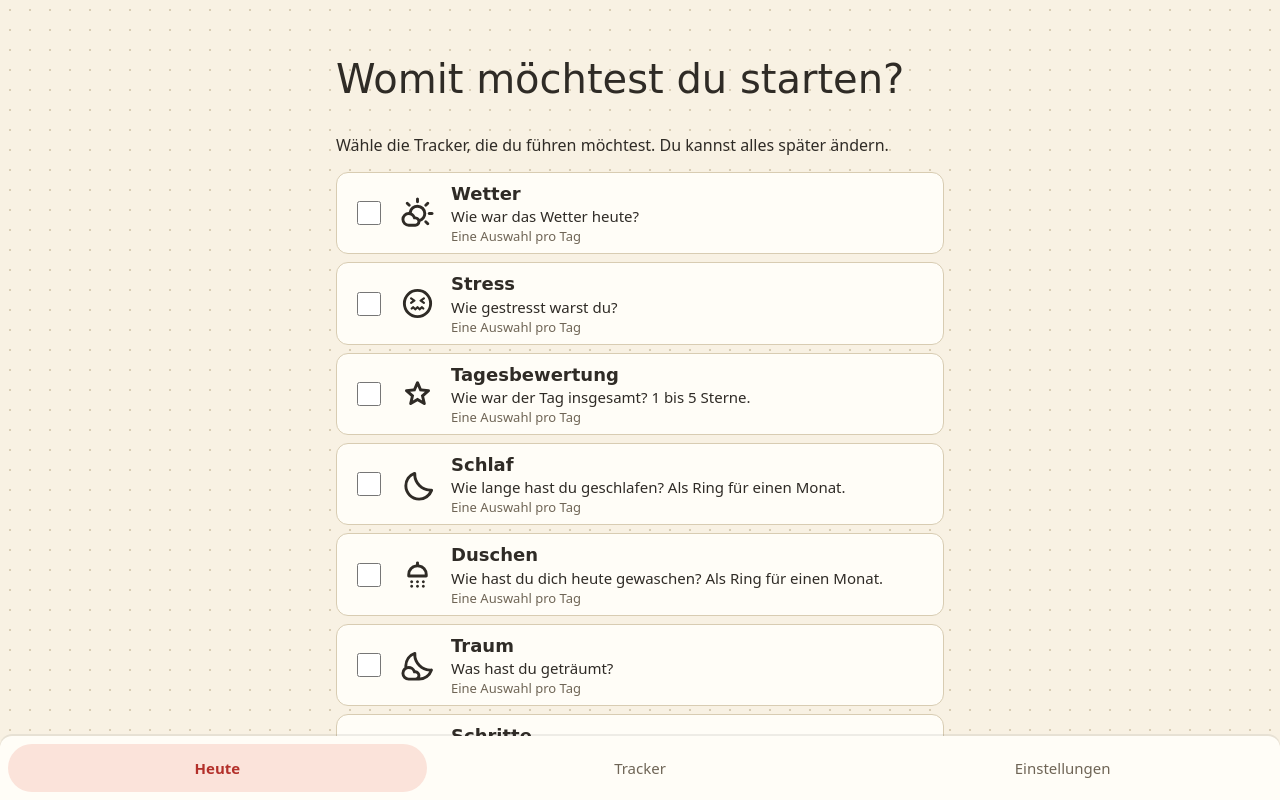
Test case: App › clears a pick with a second tap
Expected: the heading "Womit möchtest du starten?" is shown, [336,51,944,107]
Click the checkbox labelled "Wetter Wie war das Wetter heute? Eine Auswahl pro Tag".
click(369, 213)  # box [357,201,381,225]
(page scrolled)
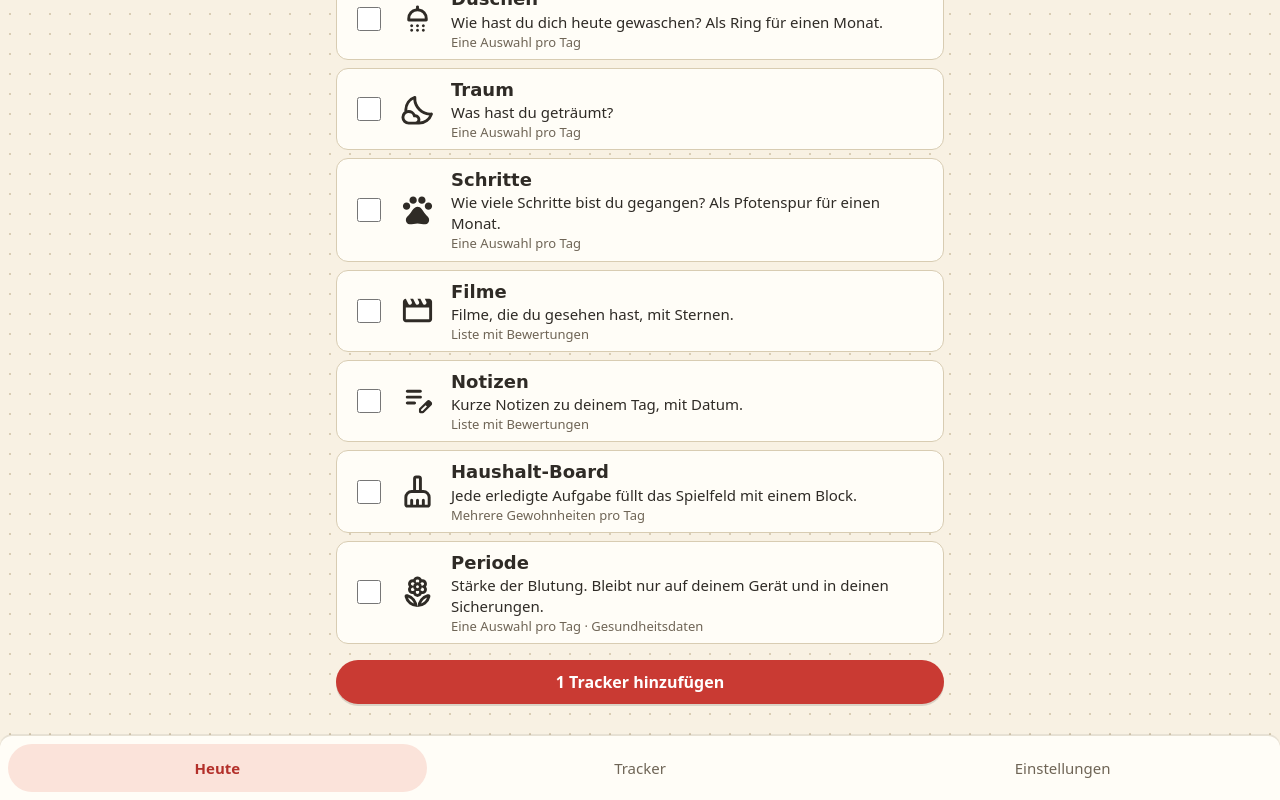
Click the button "1 Tracker hinzufügen".
click(640, 682)  # box [336,660,944,704]
(page scrolled)
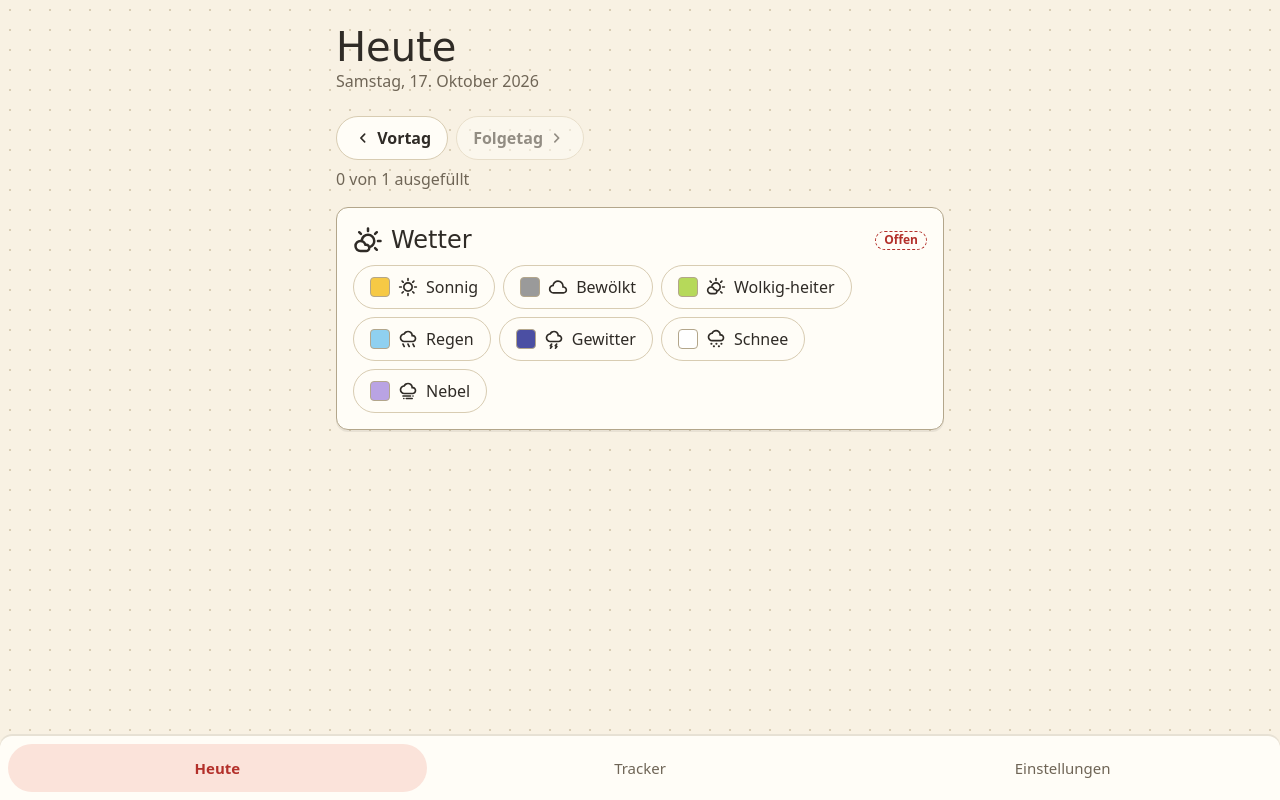
Click the button "Sonnig".
click(424, 287)  # box [353,265,495,309]
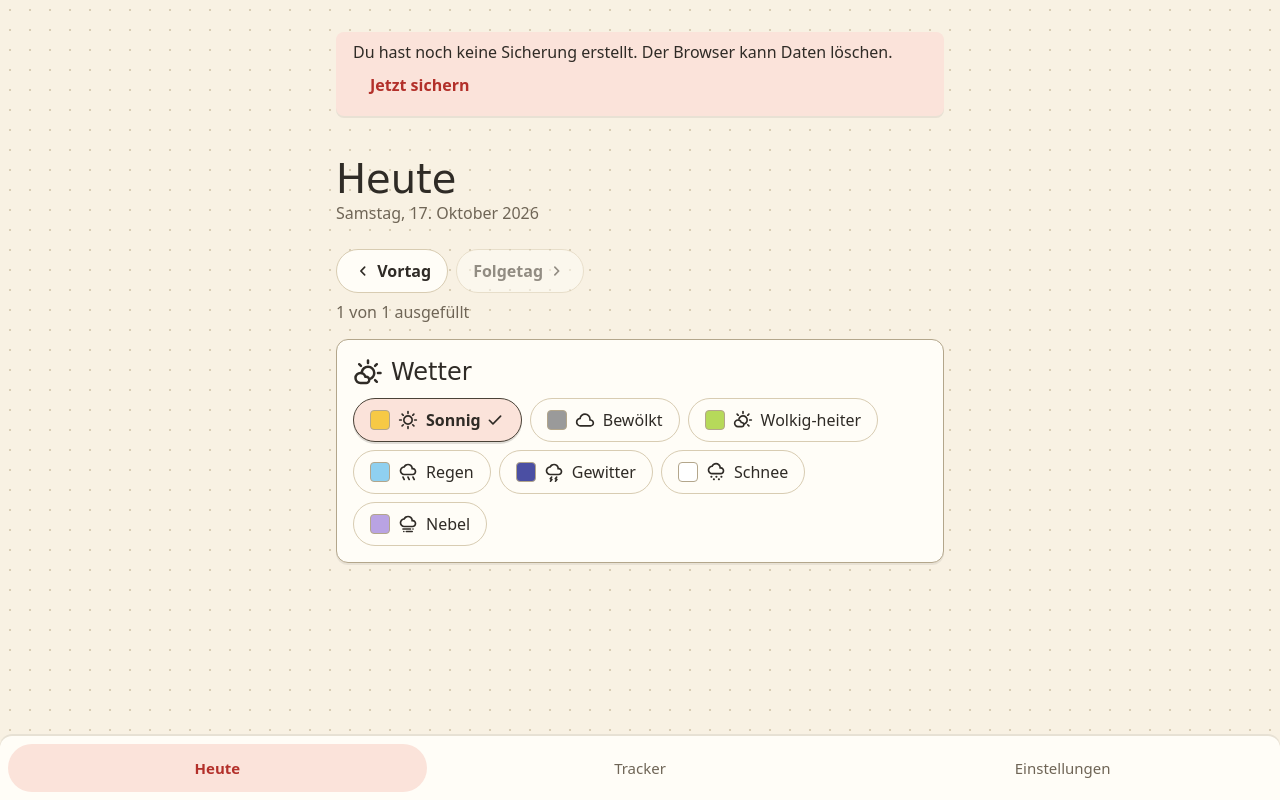
Click the button "Sonnig".
click(437, 420)  # box [353,398,522,442]
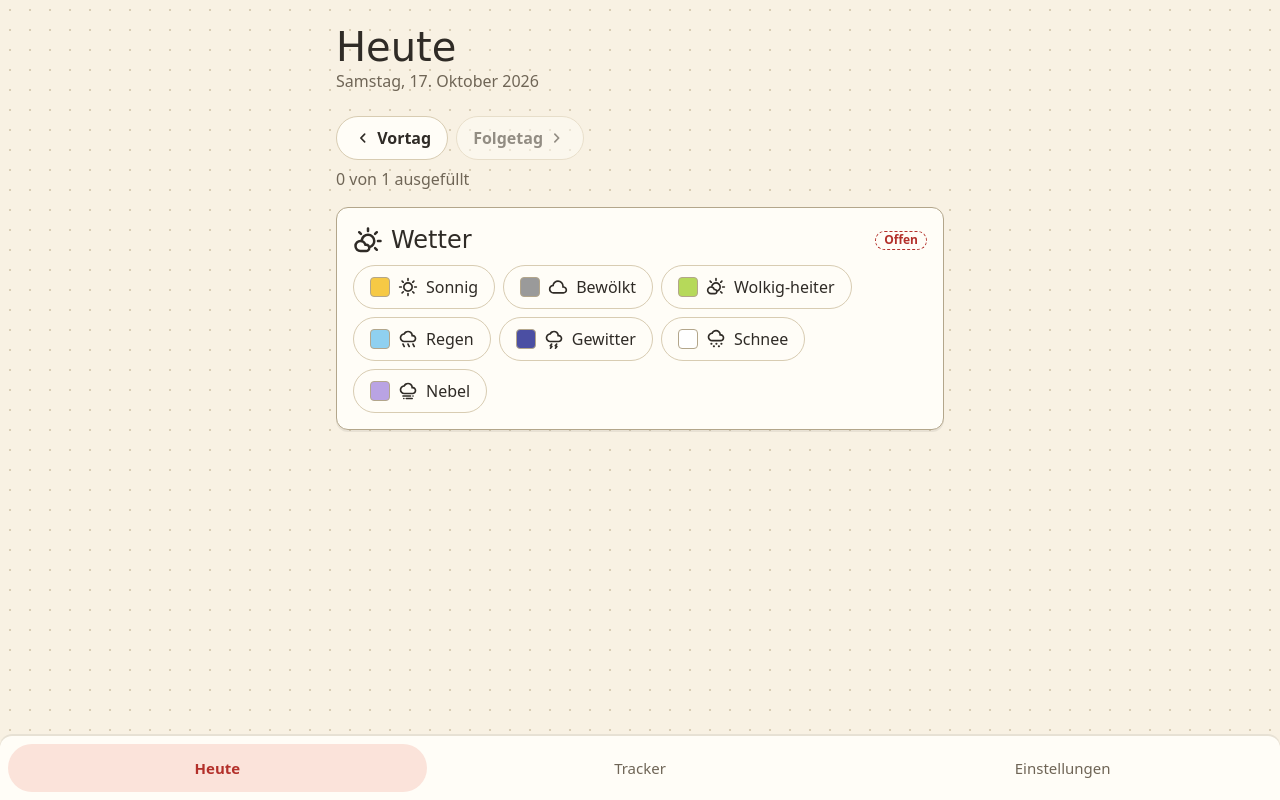
Expected: the text "0 von 1 ausgefüllt" is shown, [336,168,469,190]
